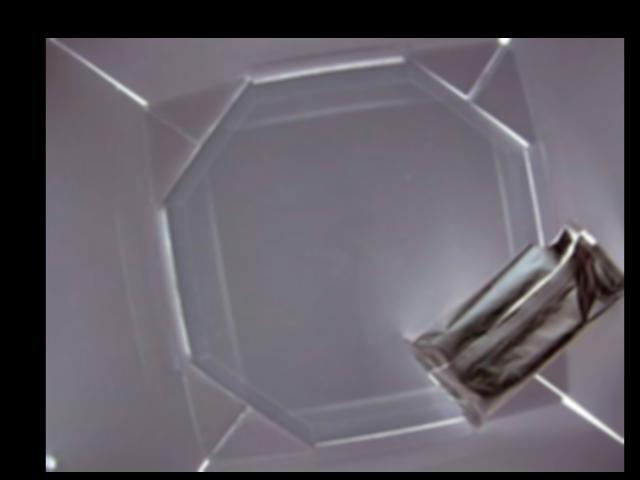Medicine: (401, 222, 624, 431)
